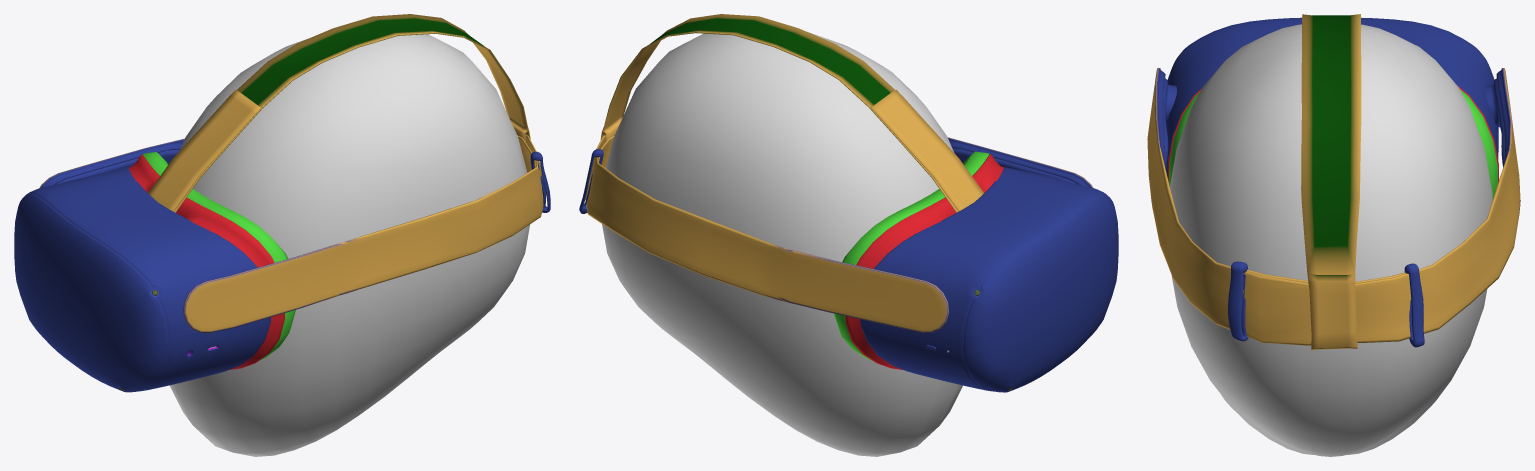
File: Head Oculus.fbx
3 renders of one model, left to right at view 1: azimuth 30°, elevation 25°; view 2: azimuth 150°, elevation 25°; view 3: azimuth 270°, elevation 25°, orthographic. The views are drawn at different scales.
Visible parts, largest first — view 1: Oculus Headset.002; view 2: Oculus Headset.002; view 3: Oculus Headset.002.
Part boxes in pixels (bbox=[...]): Oculus Headset.002: bbox=[14, 14, 550, 456]; Oculus Headset.002: bbox=[579, 14, 1118, 456]; Oculus Headset.002: bbox=[1147, 14, 1520, 456].
Size of the model in its own units: 46.9 by 37.85 by 27.88.
